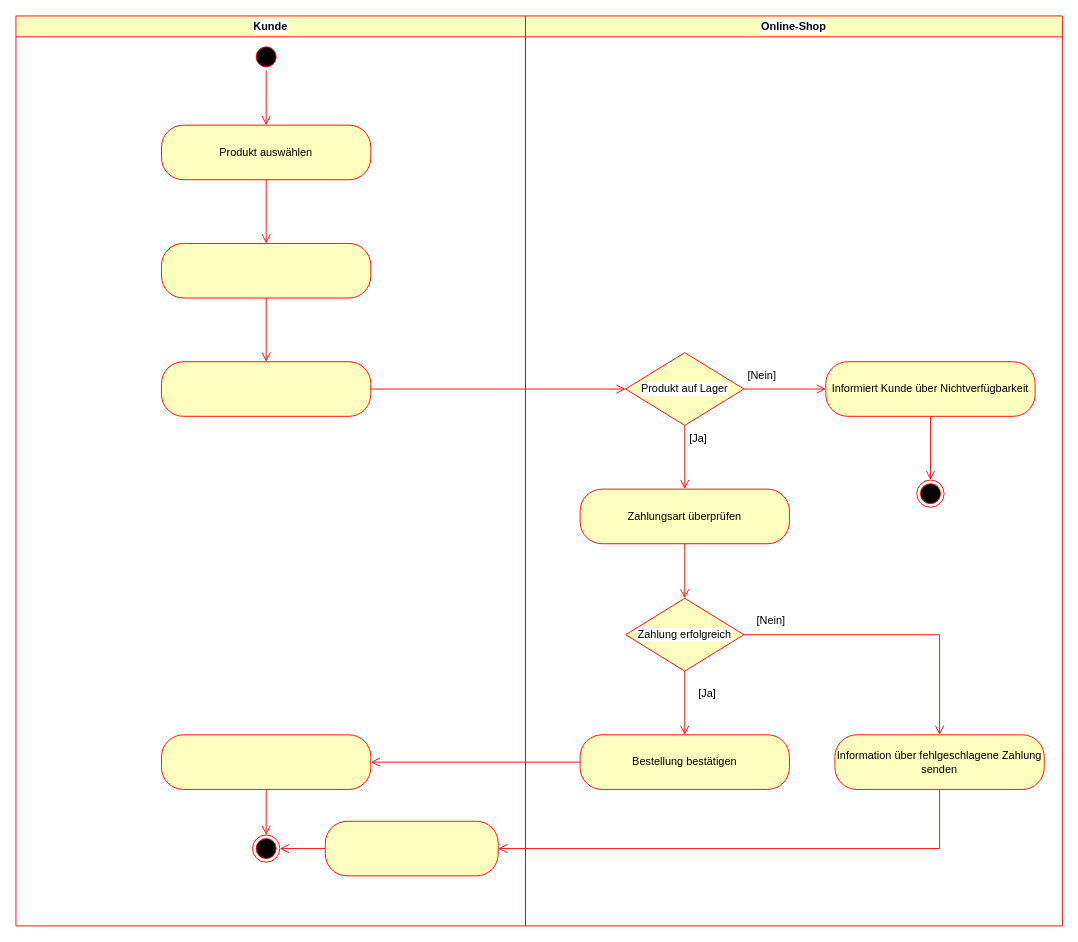
Some shapes in this 1078 by 942 pixel diagram are drawn without their labels. The centre of each missing label's shape, as x and y in pixels:
"Bestelldaten eingeben" belongs at point (266, 388).
"Erhält Bestellbestätigung" belongs at point (266, 761).
"Erhält Information über fehlgeschlagen Zahlung" belongs at point (411, 848).
"Produkt dem Warenkorb hinzufügen" belongs at point (266, 270).
